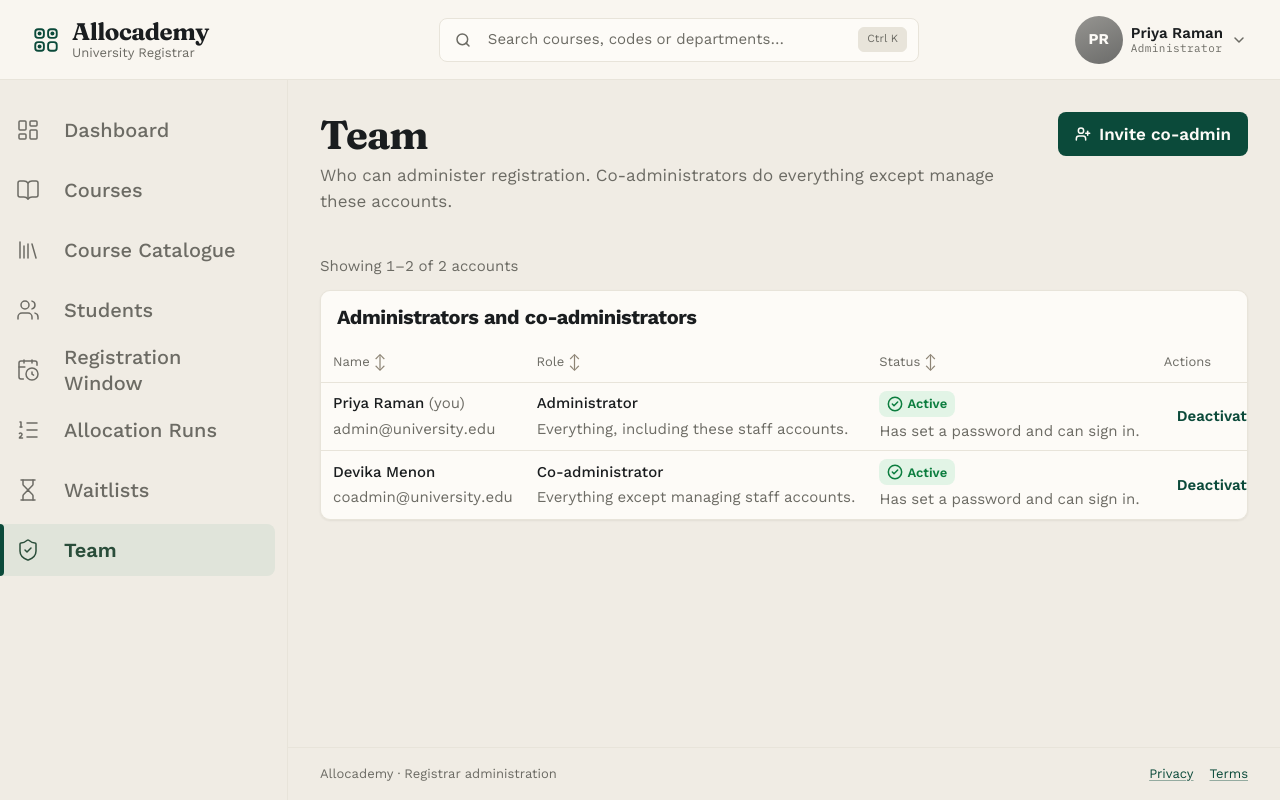
Test: TeamPage › invites a co-administrator by name and address
This screenshot has width=1280, height=800.
Expected: the heading "Team" is shown, [320, 110, 428, 159]
Click the button "Invite co-admin" at coordinates (1153, 134), box [1058, 112, 1248, 156]
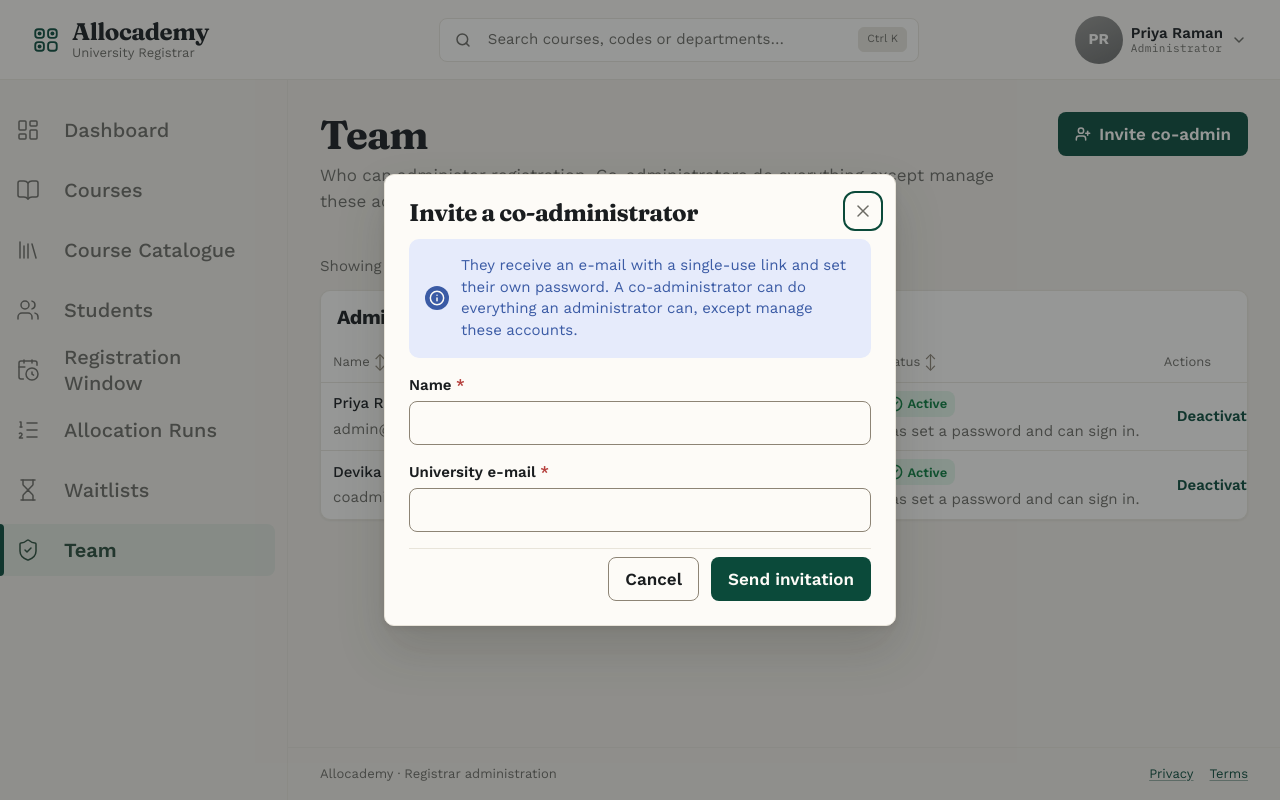
Type "New Deputy" into the field labelled "Name" at coordinates (640, 423), box [409, 401, 871, 445]
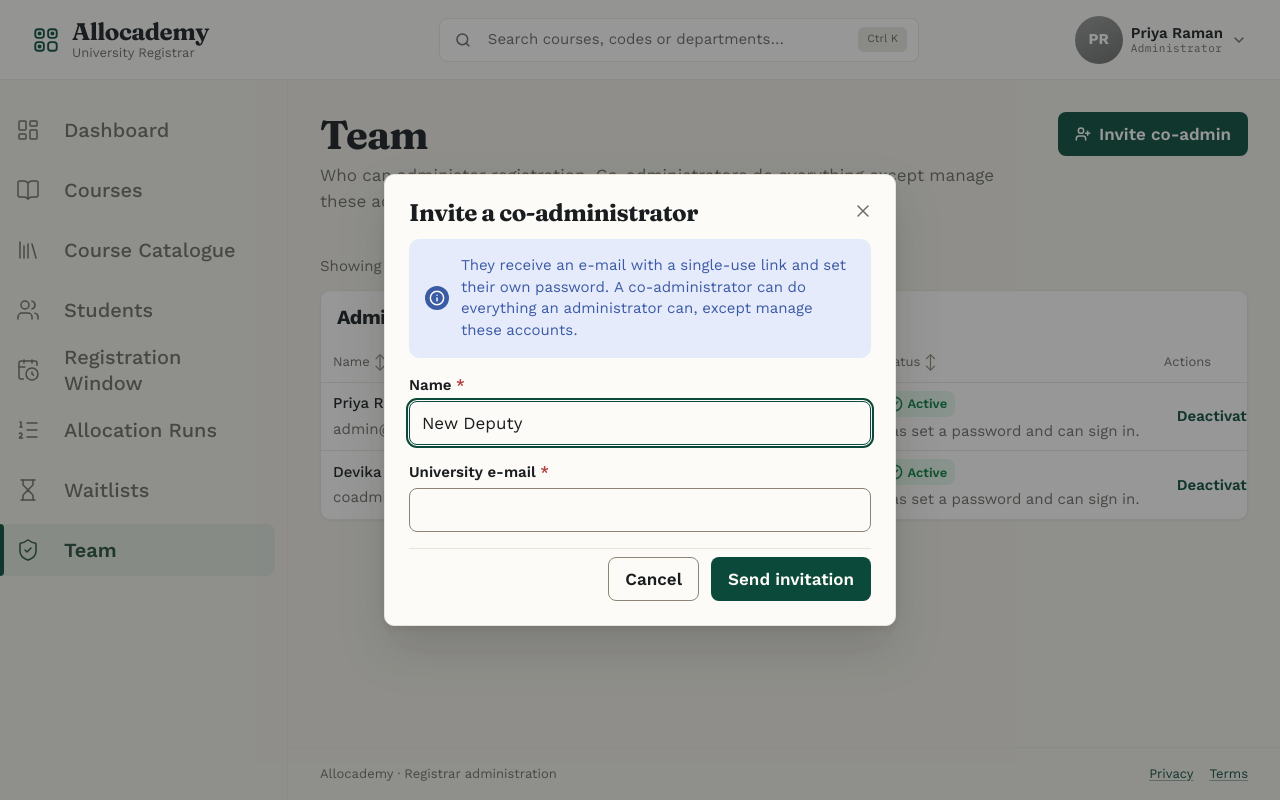
Type "new.deputy@university.edu" into the field labelled "University e-mail" at coordinates (640, 510), box [409, 488, 871, 532]
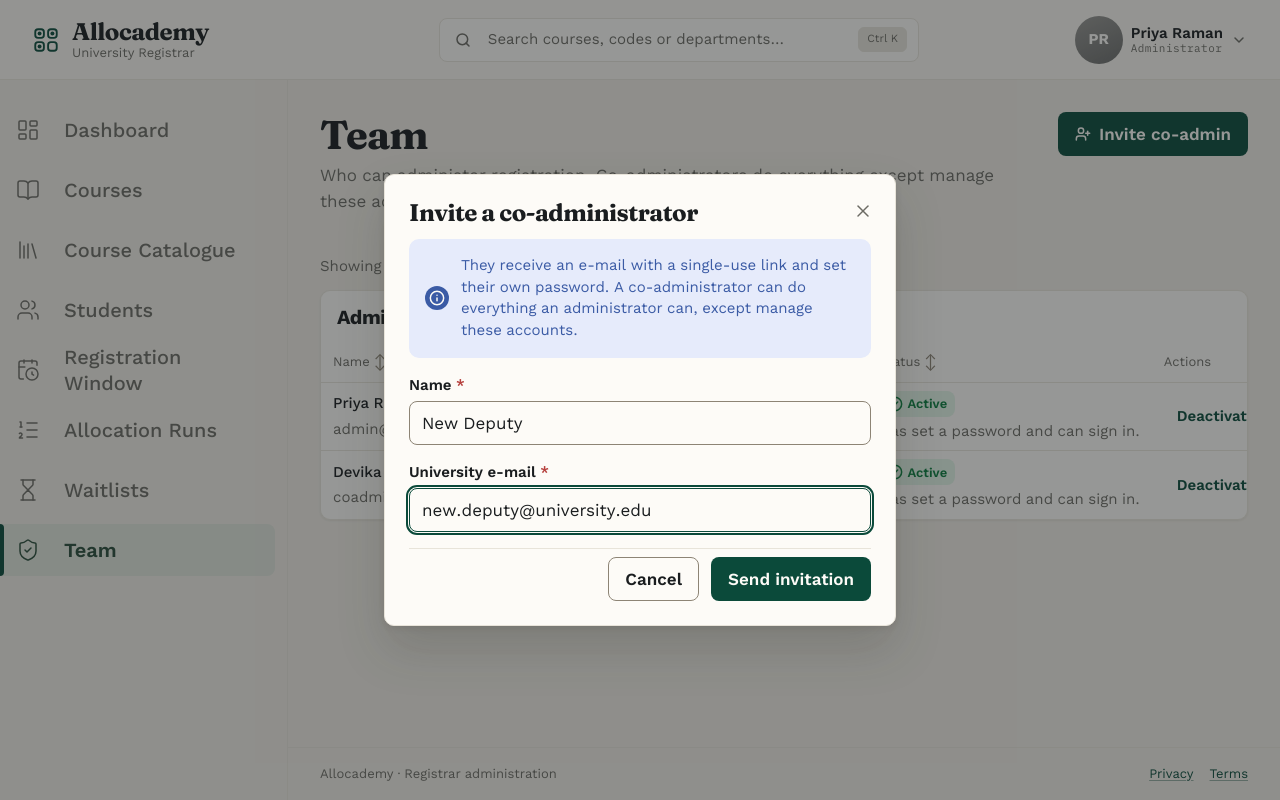
Click the button "Send invitation" at coordinates (791, 579), box [711, 557, 871, 601]
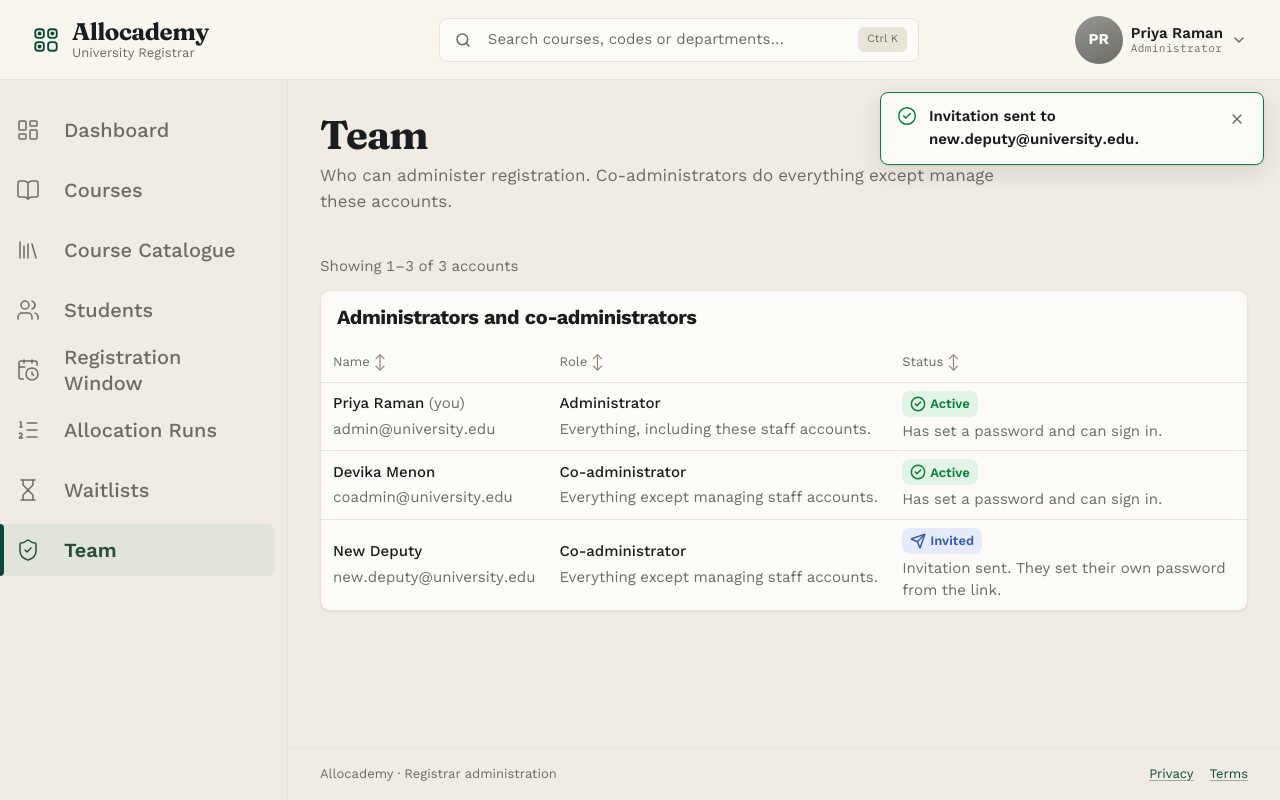
Expected: the text "New Deputy" is shown, [333, 542, 422, 560]
